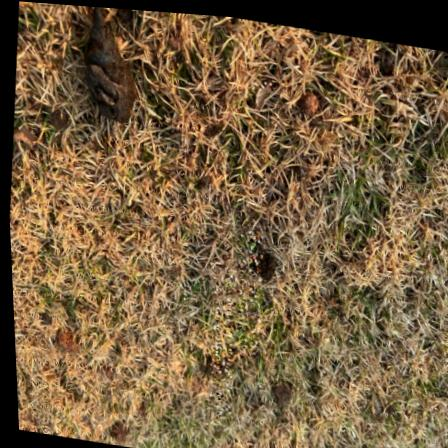dog-poop: (68, 4, 152, 133)
